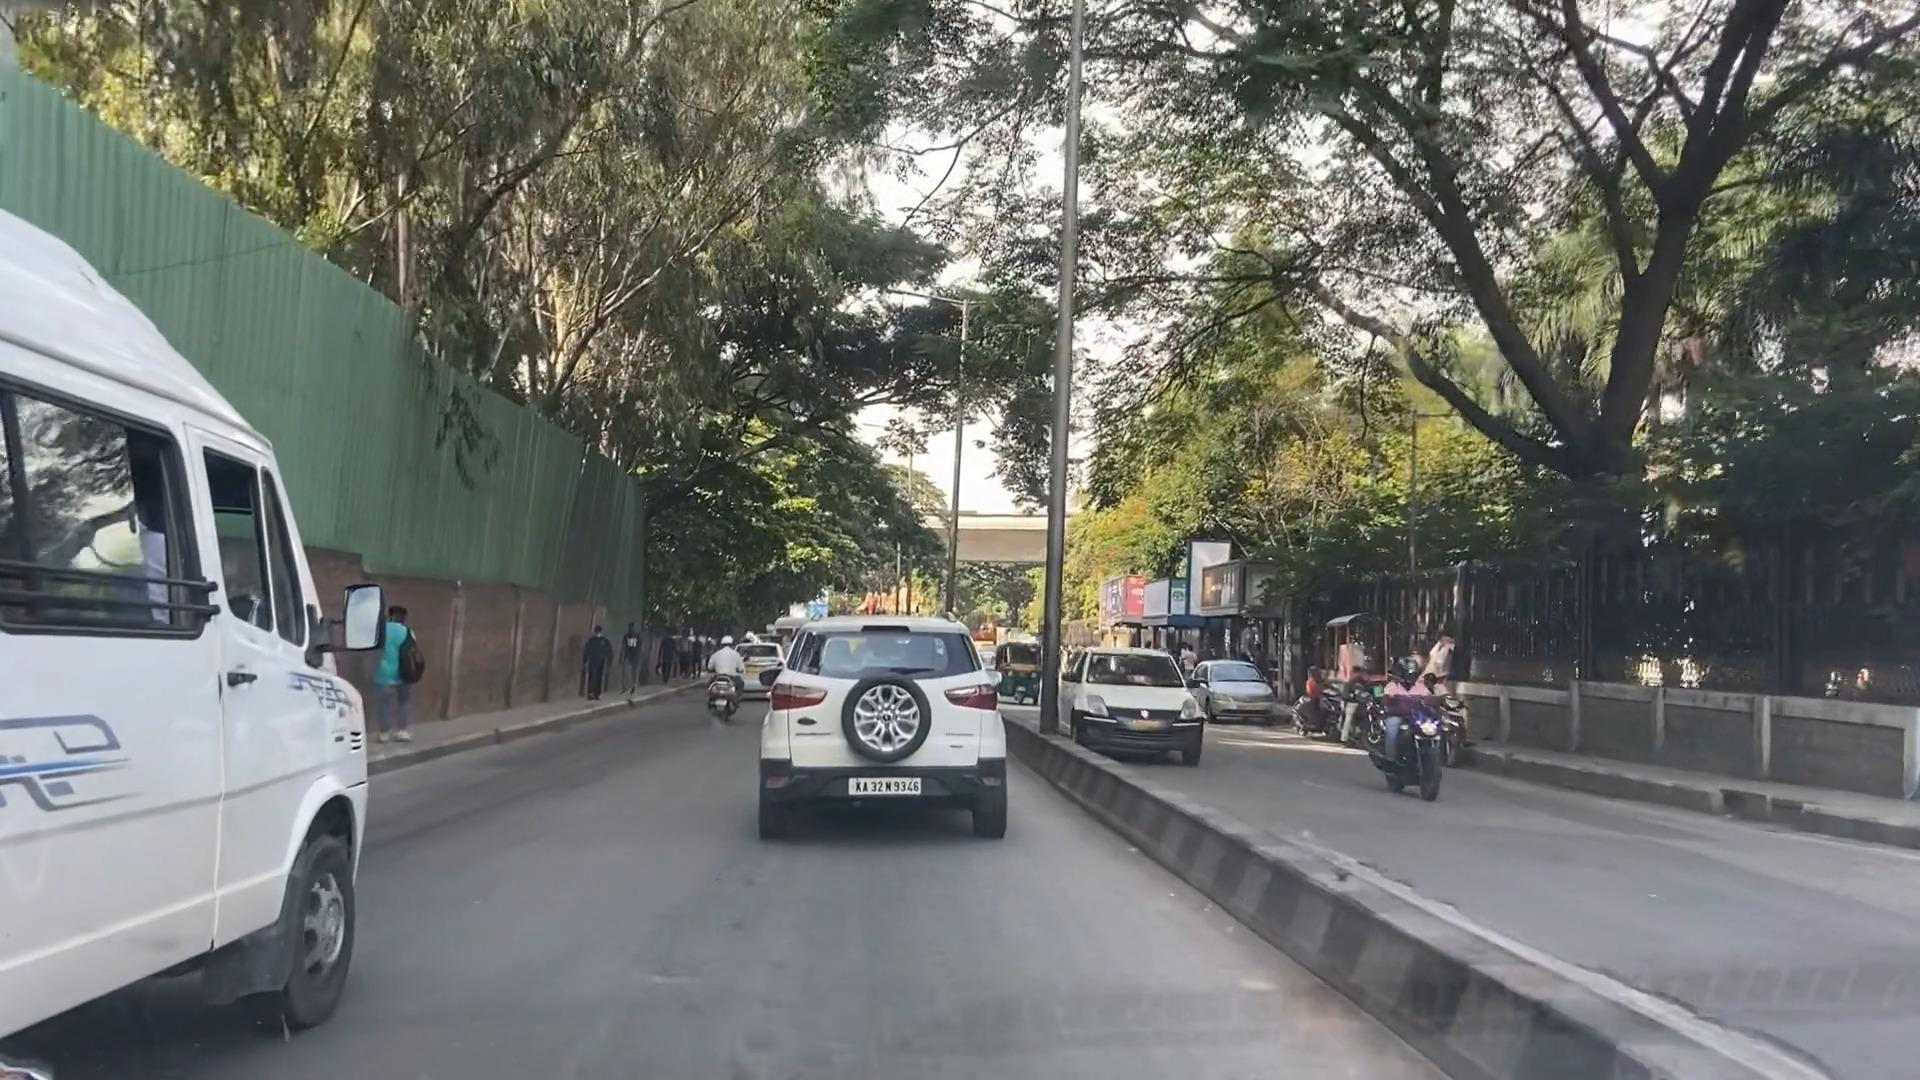HMV: (0, 200, 401, 1080)
LMV: (764, 599, 1025, 848)
